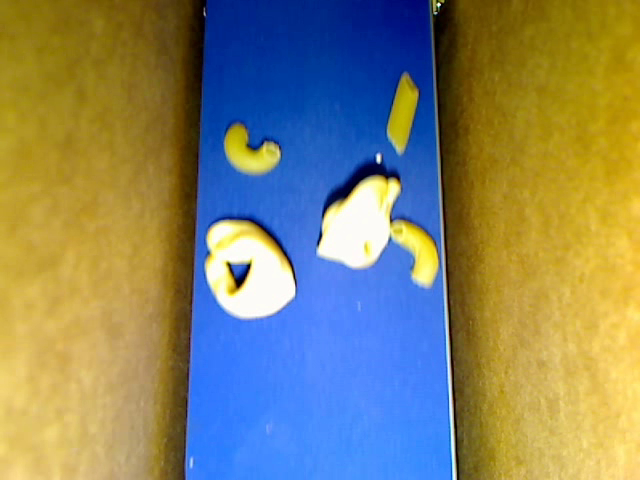elbow: (389, 218, 439, 289), (223, 121, 281, 177)
penne: (387, 71, 419, 155)
tortellini: (203, 218, 297, 321)
